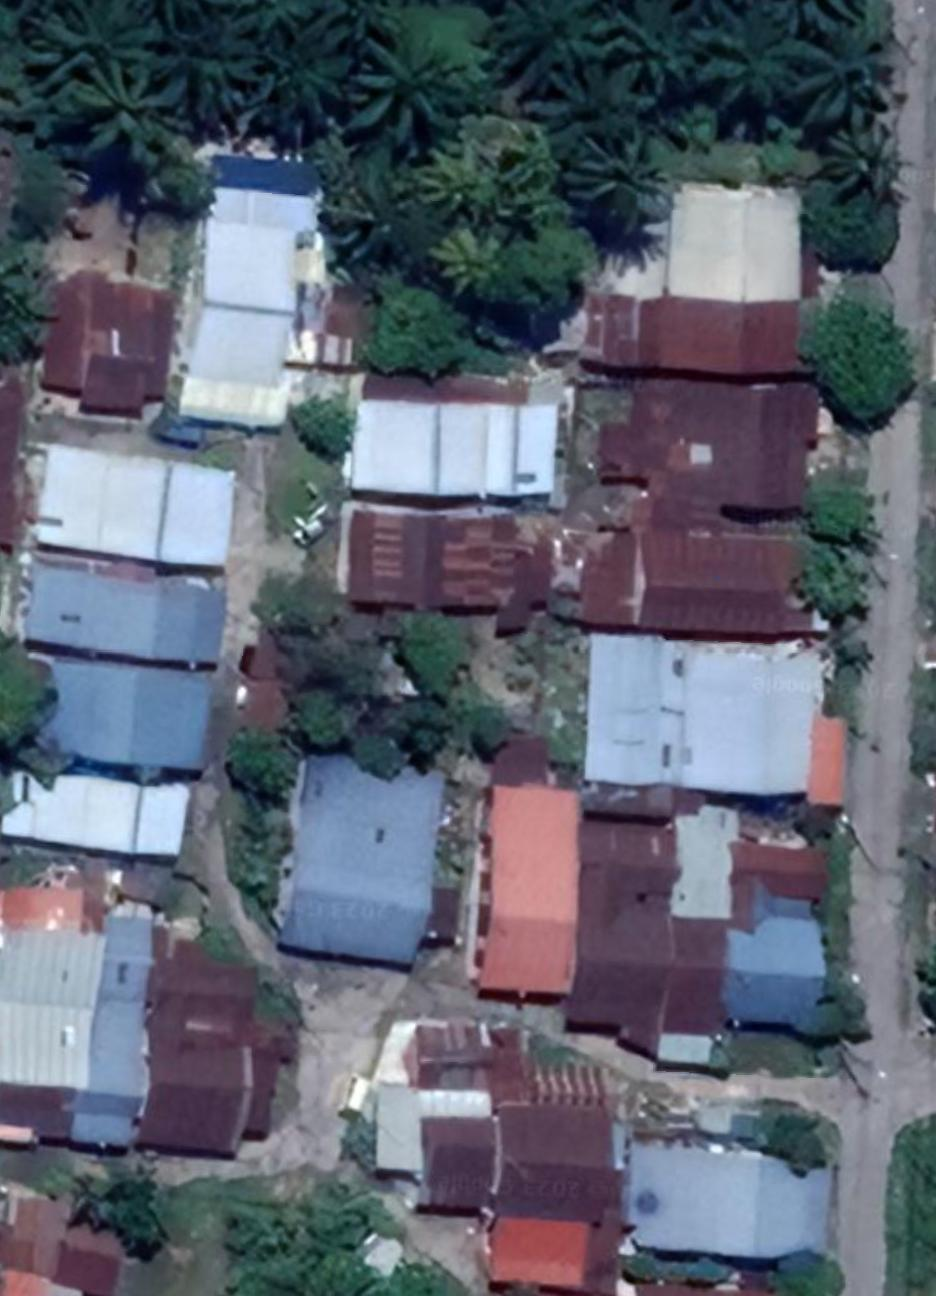building: (331, 1013, 623, 1296), (167, 140, 368, 445), (574, 625, 857, 821), (567, 171, 814, 378), (666, 791, 834, 1073), (265, 745, 458, 978), (133, 920, 309, 1165), (587, 371, 826, 534), (459, 727, 587, 1009), (15, 429, 248, 582), (328, 492, 564, 643), (332, 363, 570, 507), (555, 523, 839, 642), (624, 1135, 840, 1271), (565, 807, 677, 1064), (32, 257, 183, 434), (14, 558, 238, 675), (0, 883, 98, 1147), (37, 657, 227, 778), (0, 764, 205, 867), (67, 908, 153, 1152)
